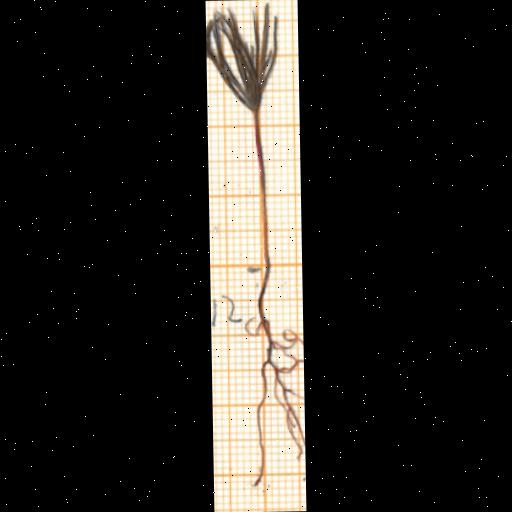flowerPinus: (206, 3, 279, 113)
rootPinus: (248, 271, 306, 485)
stemPinus: (253, 109, 269, 270)
